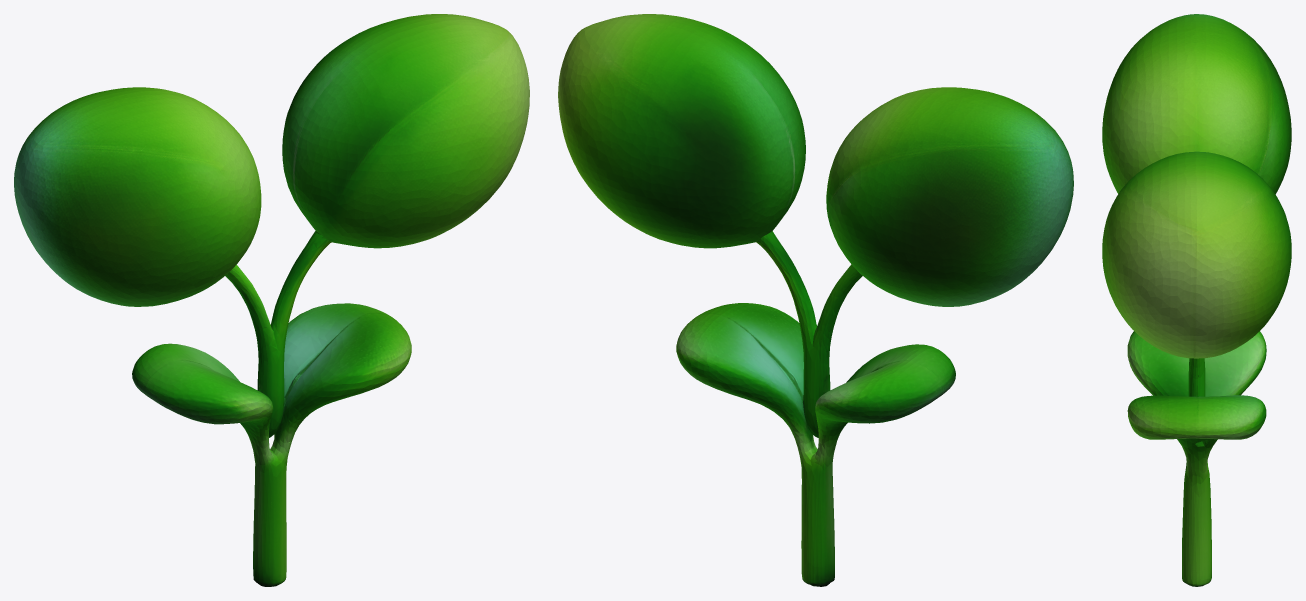
The model's file is sprout.fbx.
The picture shows the model from 3 angles, left to right: view 1: azimuth 30°, elevation 25°; view 2: azimuth 150°, elevation 25°; view 3: azimuth 270°, elevation 25°; orthographic projection. The views are drawn at different scales.
Visible parts, largest first — view 1: geometry_0; view 2: geometry_0; view 3: geometry_0.
Part boxes in pixels (box(x1,y1,x2,y2)): geometry_0: box(14, 14, 529, 586); geometry_0: box(558, 14, 1073, 586); geometry_0: box(1102, 14, 1291, 586).
Size of the model in its own units: 99.8 by 99.97 by 35.37.
Materials: 1 (1 with a texture image).
